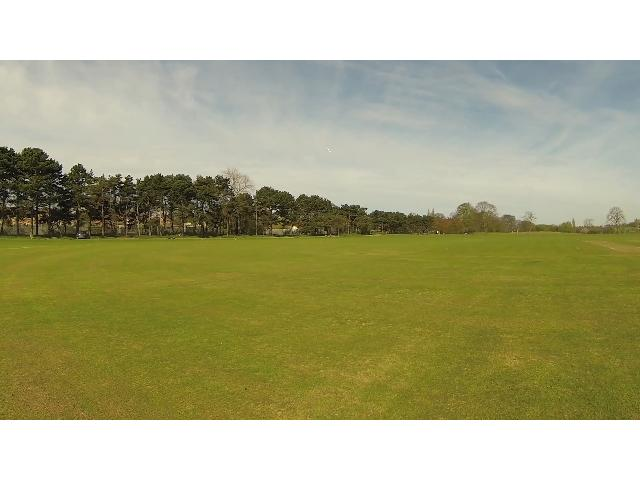Anti-Drone: (324, 146, 336, 157)
